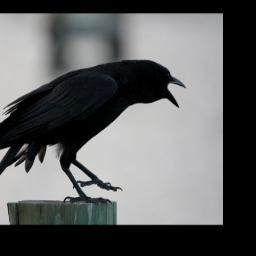Crow: (0, 58, 187, 206)
